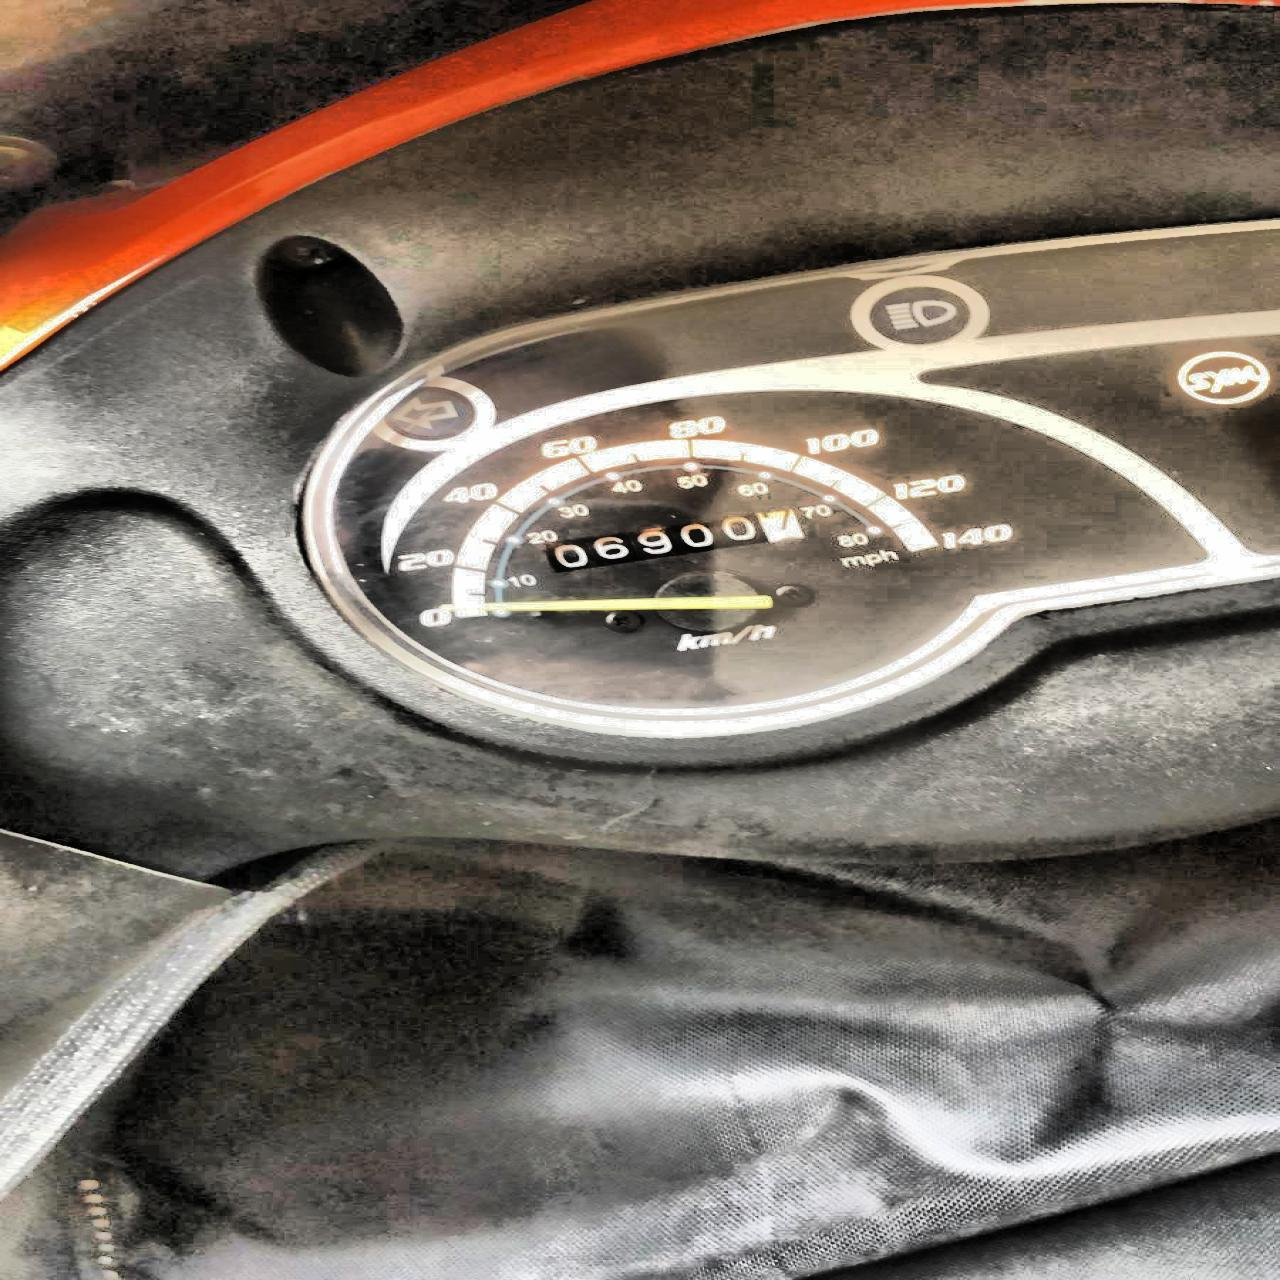0: (719, 513, 757, 544), (551, 543, 587, 568), (678, 523, 713, 549), (539, 531, 559, 542), (573, 504, 588, 516)
2: (526, 530, 540, 545)
3: (557, 504, 572, 519)
6: (587, 532, 632, 564)
7: (756, 508, 790, 533), (801, 505, 812, 519)
9: (635, 530, 672, 557)
odometer: (532, 508, 818, 574)
